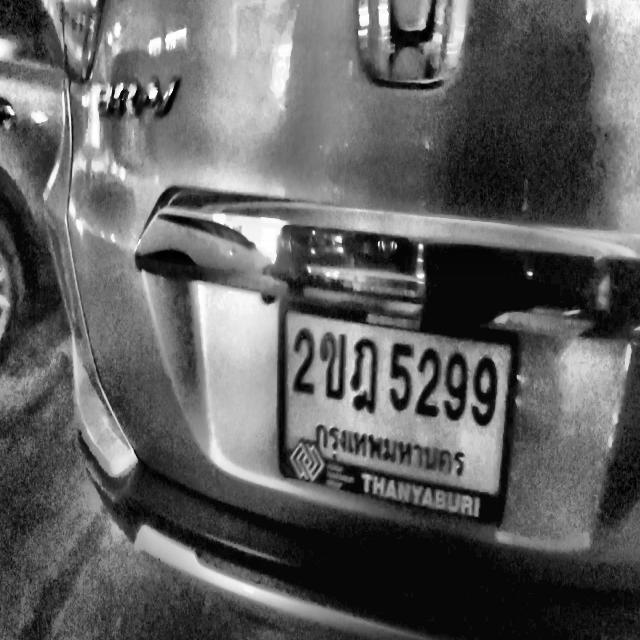license-plate: (286, 311, 510, 499)
